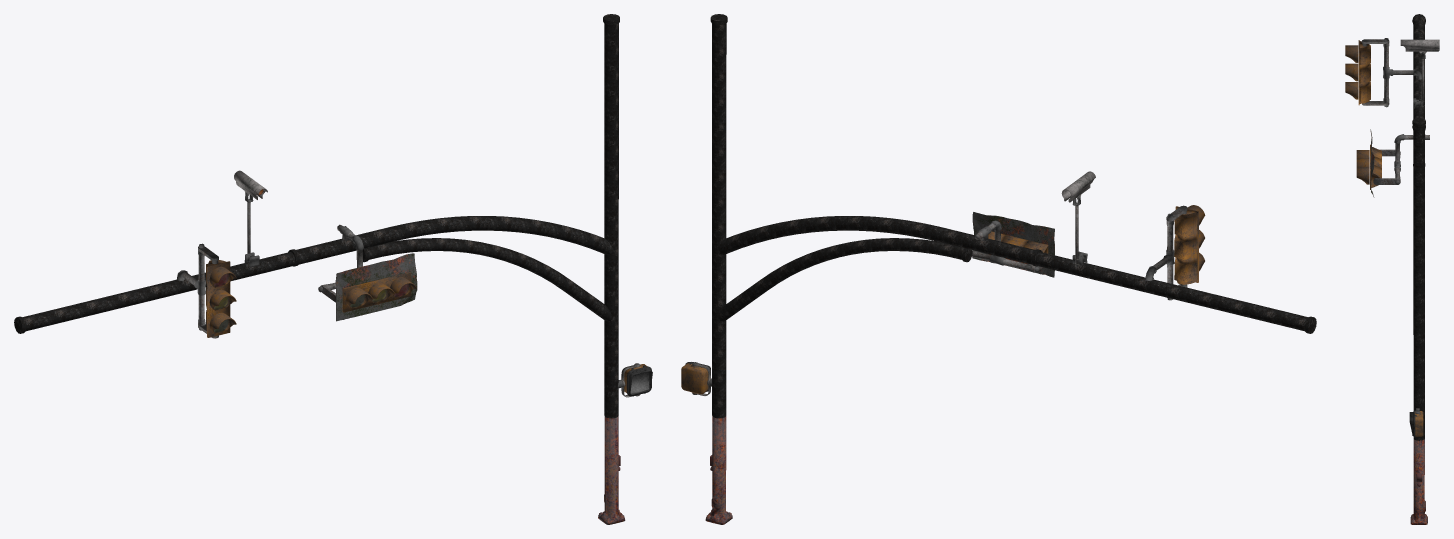
File: worned_out_traffic_light.glb
3 renders of one model, left to right at view 1: azimuth 30°, elevation 25°; view 2: azimuth 150°, elevation 25°; view 3: azimuth 270°, elevation 25°, orthographic. The views are drawn at different scales.
Visible parts, largest first — view 1: traffic_light_signal_metal, traffic_light_signal; view 2: traffic_light_signal_metal, traffic_light_signal; view 3: traffic_light_signal, traffic_light_signal_metal.
Boxes of the visible parts, <box> form: traffic_light_signal_metal: <box>14,14,619,418</box>; traffic_light_signal: <box>177,170,652,524</box>; traffic_light_signal_metal: <box>710,14,1316,418</box>; traffic_light_signal: <box>681,171,1205,524</box>; traffic_light_signal: <box>1345,38,1439,524</box>; traffic_light_signal_metal: <box>1412,14,1425,440</box>.
Size of the model in its own units: 3.47 by 2.64 by 0.5634.
2 materials, 2 textured.
